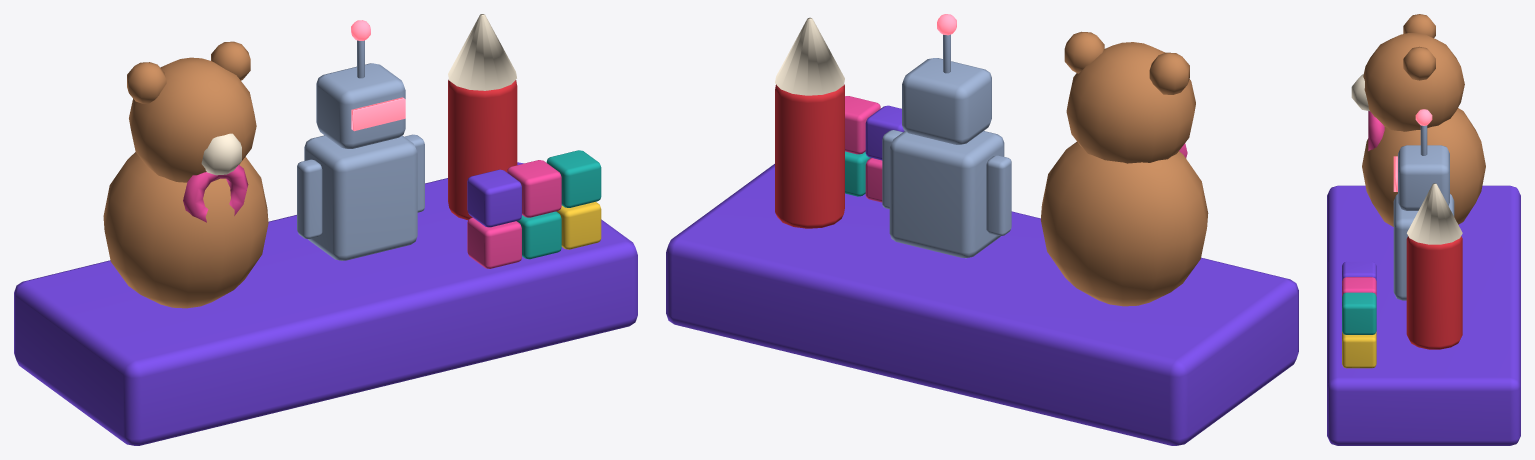
Rendered from mall_display_toys.glb.
The picture shows the model from 3 angles, left to right: view 1: azimuth 30°, elevation 25°; view 2: azimuth 150°, elevation 25°; view 3: azimuth 270°, elevation 25°; orthographic projection. The views are drawn at different scales.
Visible parts, largest first — view 1: DisplayToys; view 2: DisplayToys; view 3: DisplayToys.
Part boxes in pixels (x1,y1,x2,y2): DisplayToys: [14, 14, 637, 445]; DisplayToys: [666, 14, 1298, 445]; DisplayToys: [1327, 14, 1520, 445].
Size of the model in its own units: 2.2 by 1.35 by 0.9.
